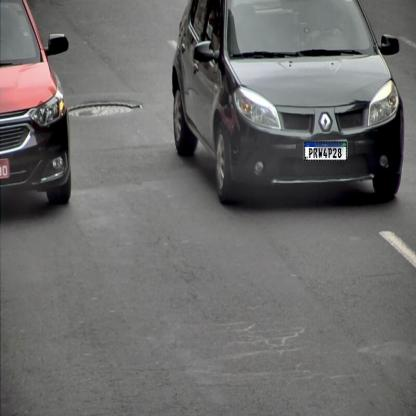PlacaM: (304, 141, 347, 161)
